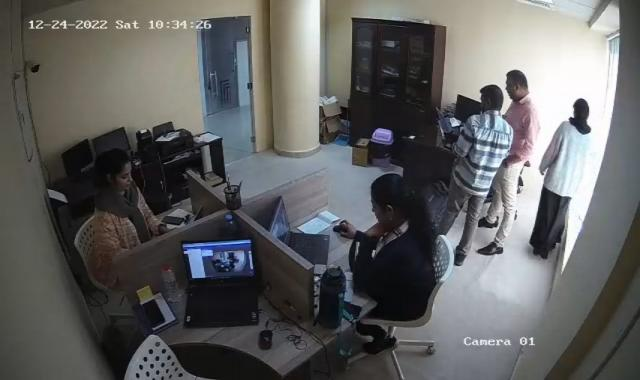no_hairnet: (370, 171, 413, 223), (97, 148, 135, 192), (504, 68, 528, 100), (480, 85, 503, 115), (572, 96, 590, 121)
